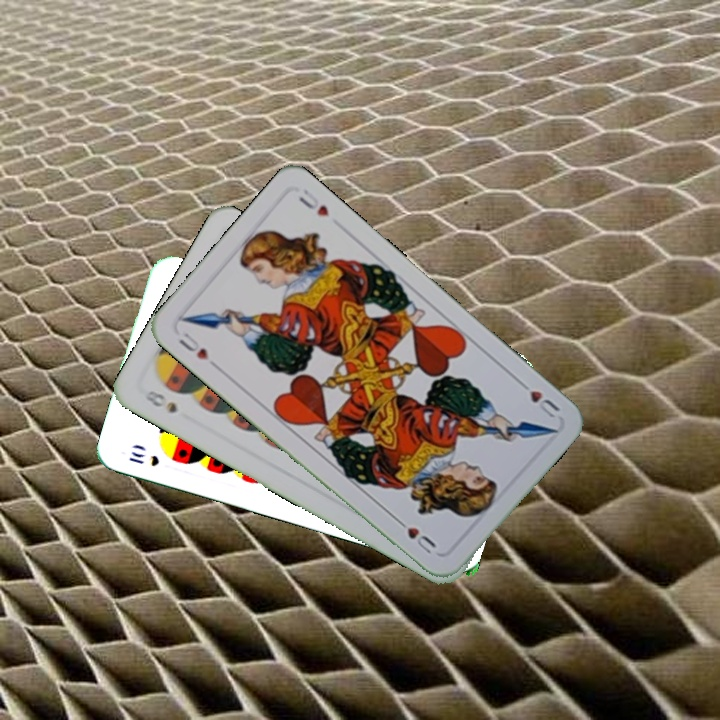HU: (514, 376, 563, 421), (174, 328, 221, 371)
S10: (125, 447, 162, 469)
S8: (139, 386, 180, 416)
